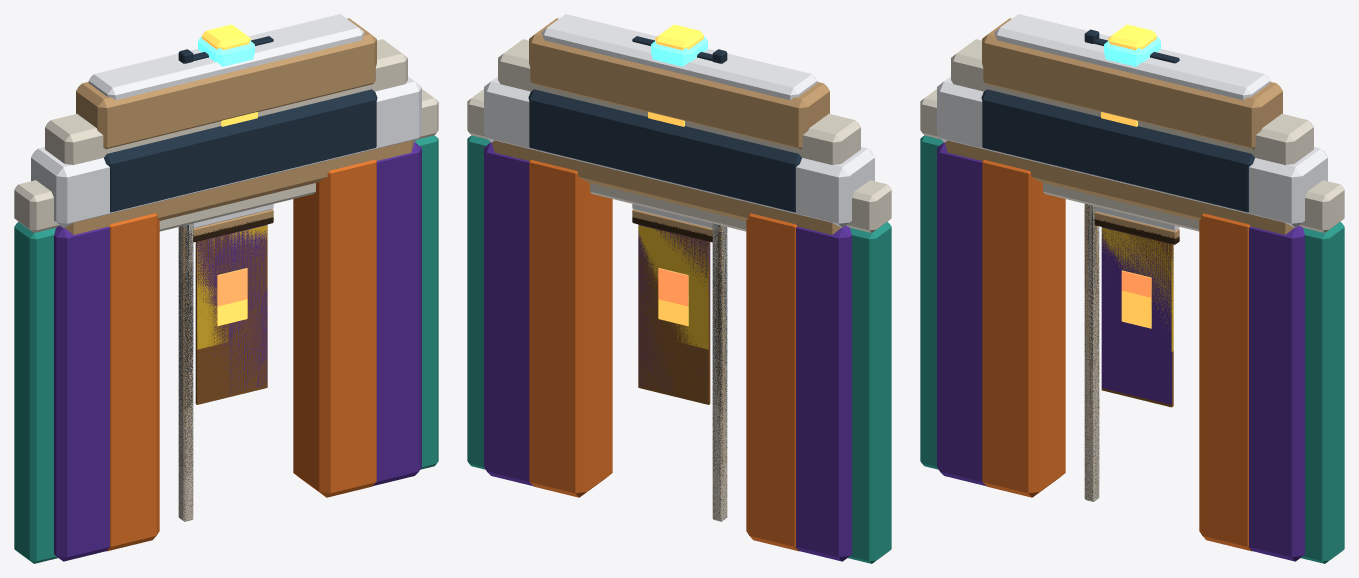
File: flagship_props_003.glb
3 renders of one model, left to right at view 1: azimuth 30°, elevation 25°; view 2: azimuth 150°, elevation 25°; view 3: azimuth 330°, elevation 25°, orthographic.
Visible parts, largest first — view 1: Prop_BBIsle_Arch_10, Prop_BBIsle_Arch_09, Prop_BBIsle_Arch_17, Prop_BBIsle_Arch_08, Prop_BBIsle_Banner_01, Prop_BBIsle_Arch_19, Prop_BBIsle_Banner_02, Prop_BBIsle_Arch_13, Prop_BBIsle_Arch_12, Prop_BBIsle_Banner_04, Prop_BBIsle_Banner_00, Prop_BBIsle_Banner_03 (+1 smaller); view 2: Prop_BBIsle_Arch_10, Prop_BBIsle_Arch_09, Prop_BBIsle_Arch_17, Prop_BBIsle_Arch_08, Prop_BBIsle_Banner_01, Prop_BBIsle_Arch_19, Prop_BBIsle_Banner_04, Prop_BBIsle_Arch_13, Prop_BBIsle_Arch_12, Prop_BBIsle_Banner_02, Prop_BBIsle_Banner_00, Prop_BBIsle_Banner_03 (+1 smaller); view 3: Prop_BBIsle_Arch_10, Prop_BBIsle_Arch_09, Prop_BBIsle_Arch_17, Prop_BBIsle_Arch_08, Prop_BBIsle_Banner_02, Prop_BBIsle_Arch_19, Prop_BBIsle_Arch_13, Prop_BBIsle_Arch_12, Prop_BBIsle_Banner_01, Prop_BBIsle_Banner_04, Prop_BBIsle_Banner_00, Prop_BBIsle_Arch_07 (+1 smaller).
Boxes of the visible parts, x1,y1,x2,y2 form: Prop_BBIsle_Arch_10: (104,89,377,551); Prop_BBIsle_Arch_09: (31,76,421,561); Prop_BBIsle_Arch_17: (14,89,438,563); Prop_BBIsle_Arch_08: (76,18,376,149); Prop_BBIsle_Banner_01: (178,209,273,520); Prop_BBIsle_Arch_19: (88,14,364,100); Prop_BBIsle_Banner_02: (178,204,273,520); Prop_BBIsle_Arch_13: (65,140,413,234); Prop_BBIsle_Arch_12: (45,39,407,165); Prop_BBIsle_Banner_04: (178,217,273,519); Prop_BBIsle_Banner_00: (178,223,193,521); Prop_BBIsle_Banner_03: (178,36,273,517); Prop_BBIsle_Arch_10: (528,89,801,551); Prop_BBIsle_Arch_09: (484,76,874,561); Prop_BBIsle_Arch_17: (467,89,891,563); Prop_BBIsle_Arch_08: (529,18,829,149); Prop_BBIsle_Banner_01: (632,209,727,520); Prop_BBIsle_Arch_19: (541,14,817,100); Prop_BBIsle_Banner_04: (632,217,727,517); Prop_BBIsle_Arch_13: (492,140,840,234); Prop_BBIsle_Arch_12: (498,39,860,165); Prop_BBIsle_Banner_02: (632,204,727,520); Prop_BBIsle_Banner_00: (712,223,727,521); Prop_BBIsle_Banner_03: (632,36,727,518); Prop_BBIsle_Arch_10: (981,89,1254,551); Prop_BBIsle_Arch_09: (937,76,1327,561); Prop_BBIsle_Arch_17: (920,89,1344,563); Prop_BBIsle_Arch_08: (982,18,1282,149); Prop_BBIsle_Banner_02: (1084,206,1179,501); Prop_BBIsle_Arch_19: (994,14,1270,100); Prop_BBIsle_Arch_13: (945,140,1293,234); Prop_BBIsle_Arch_12: (951,39,1313,165); Prop_BBIsle_Banner_01: (1084,205,1179,500); Prop_BBIsle_Banner_04: (1084,210,1179,497); Prop_BBIsle_Banner_00: (1084,204,1099,501); Prop_BBIsle_Arch_07: (1043,183,1199,231).
Size of the model in its own units: 4.05 by 4.51 by 0.5915.
